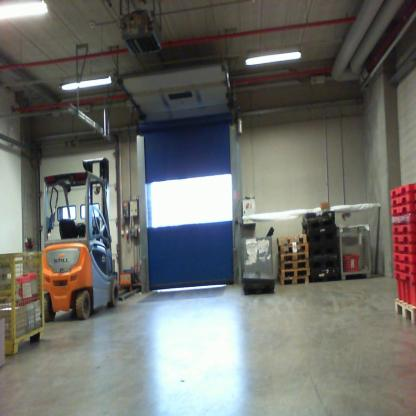forklift: (39, 144, 133, 324)
pallet: (393, 296, 416, 327), (277, 240, 311, 254), (277, 272, 310, 286), (277, 258, 311, 271), (278, 230, 307, 245), (278, 250, 311, 262), (278, 267, 312, 278)
small_load_carrier: (395, 271, 415, 308), (342, 249, 364, 271), (387, 179, 412, 193), (391, 192, 415, 205), (391, 214, 414, 227), (392, 232, 415, 245), (390, 204, 414, 216), (393, 262, 414, 275), (393, 253, 413, 263), (392, 245, 413, 253), (392, 225, 415, 232)
stillage: (1, 248, 47, 369), (339, 216, 377, 286)
